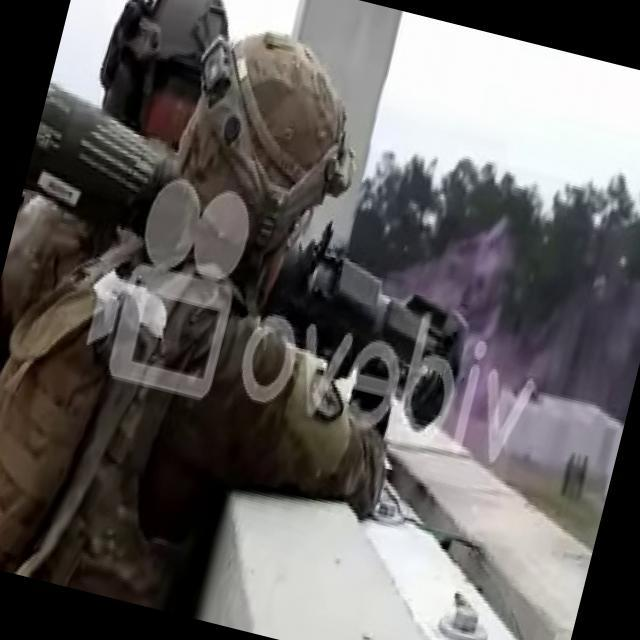rocket: (0, 82, 505, 423)
